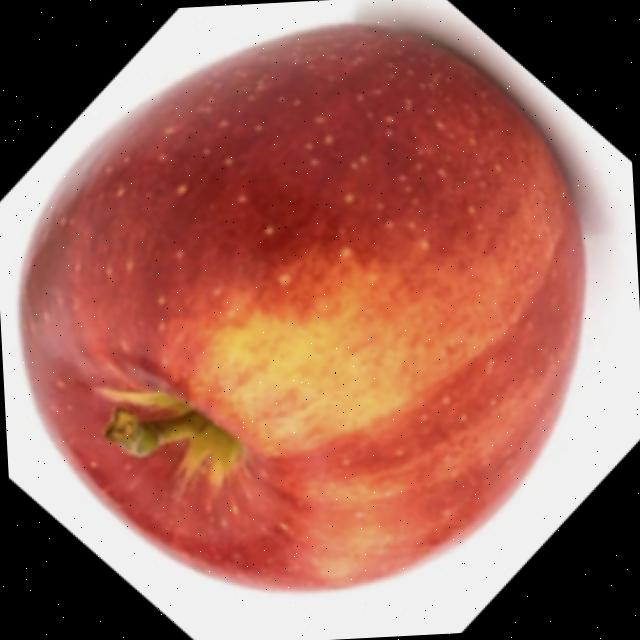Ripe: (0, 6, 609, 612)
